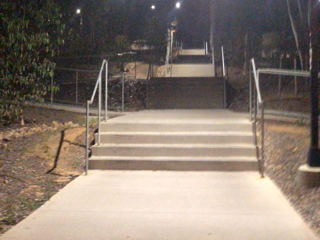Edge: (1, 168, 88, 235), (267, 175, 319, 238)
Obstacle: (84, 60, 266, 171)
